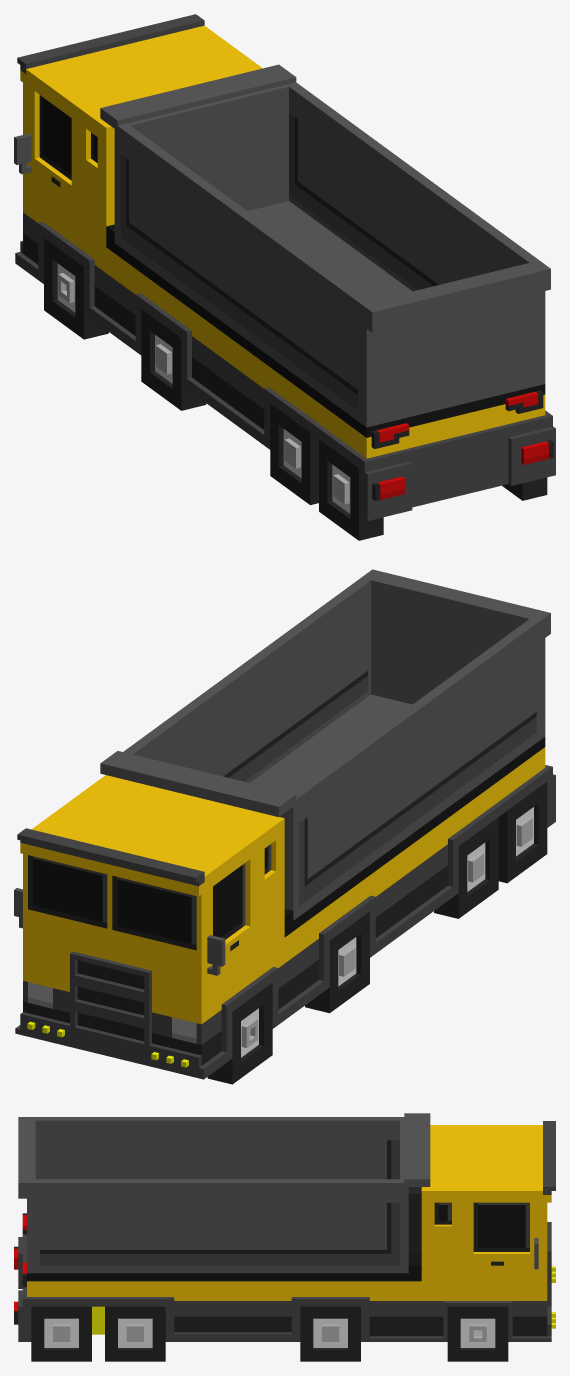
3 renders of one model, top to bottom at view 1: azimuth 30°, elevation 25°; view 2: azimuth 150°, elevation 25°; view 3: azimuth 270°, elevation 25°, orthographic. The views are drawn at different scales.
Parts seen in each view (by area): view 1: alll cars3-159; view 2: alll cars3-159; view 3: alll cars3-159.
Boxes of the visible parts, x1,y1,x2,y2 form: alll cars3-159: (14, 14, 555, 540); alll cars3-159: (14, 569, 555, 1084); alll cars3-159: (14, 1113, 555, 1361).
Size of the model in its own units: 4.09 by 4.48 by 12.18.
1 material, 1 textured.
